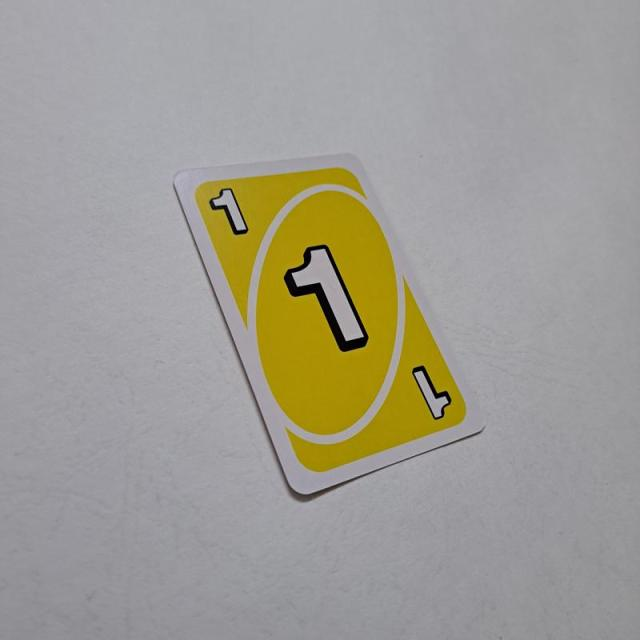Number_1: (207, 186, 256, 242)
Yellow_Card: (190, 159, 474, 475)
